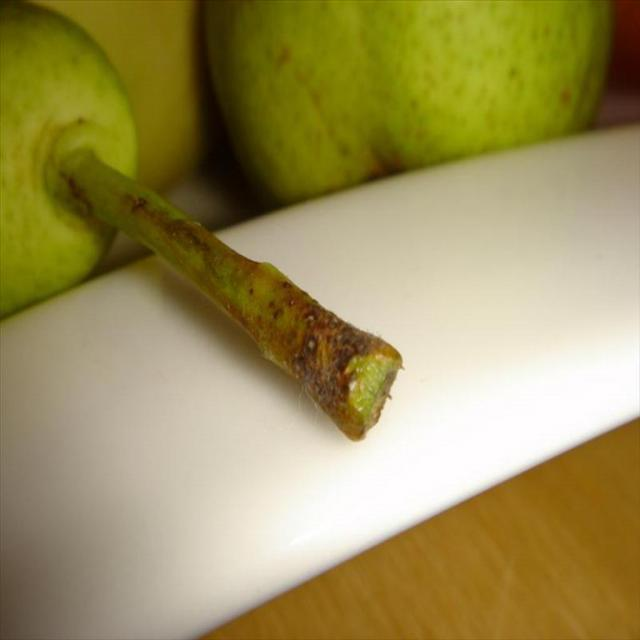Pear: (196, 0, 617, 198), (0, 0, 140, 319)
